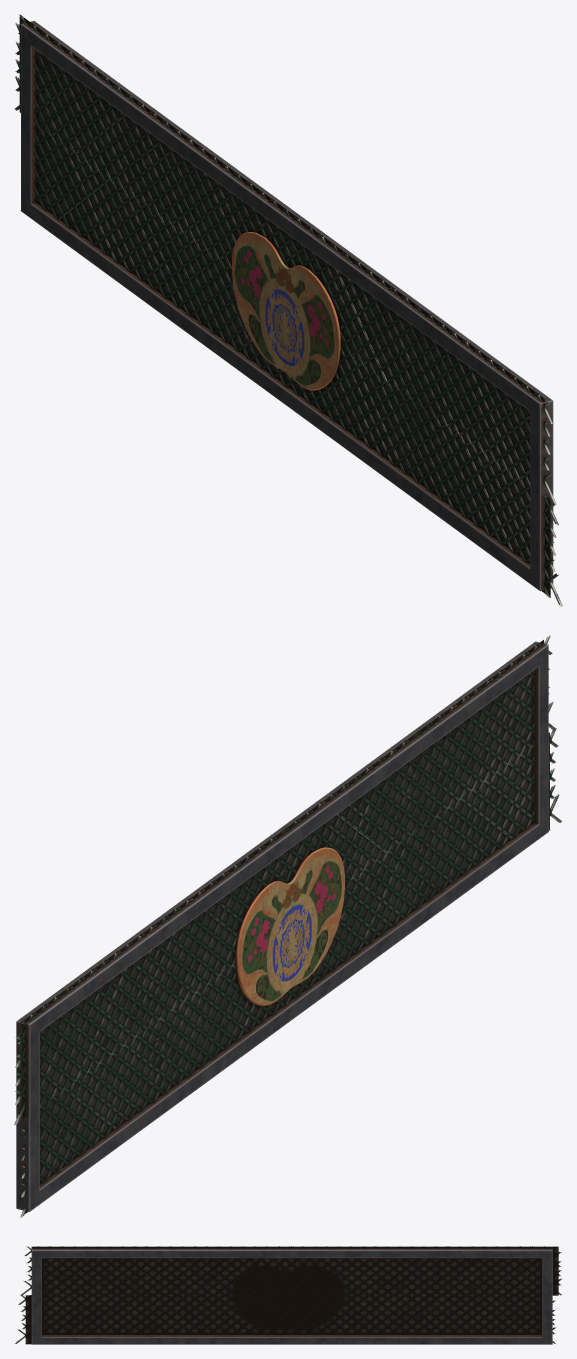
Rendered from SM_Amulet_L.fbx.
The picture shows the model from 3 angles, top to bottom: view 1: azimuth 30°, elevation 25°; view 2: azimuth 150°, elevation 25°; view 3: azimuth 270°, elevation 25°; orthographic projection. The views are drawn at different scales.
Parts seen in each view (by area): view 1: SM_Amulet_L_LOD0; view 2: SM_Amulet_L_LOD0; view 3: SM_Amulet_L_LOD0.
Part boxes in pixels (left/top/right/bottom): SM_Amulet_L_LOD0: left=14, top=14, right=562, bottom=606; SM_Amulet_L_LOD0: left=14, top=635, right=562, bottom=1217; SM_Amulet_L_LOD0: left=14, top=1246, right=562, bottom=1344.
Bounding box in the file's own units: 6.48 × 449 × 88.17.
